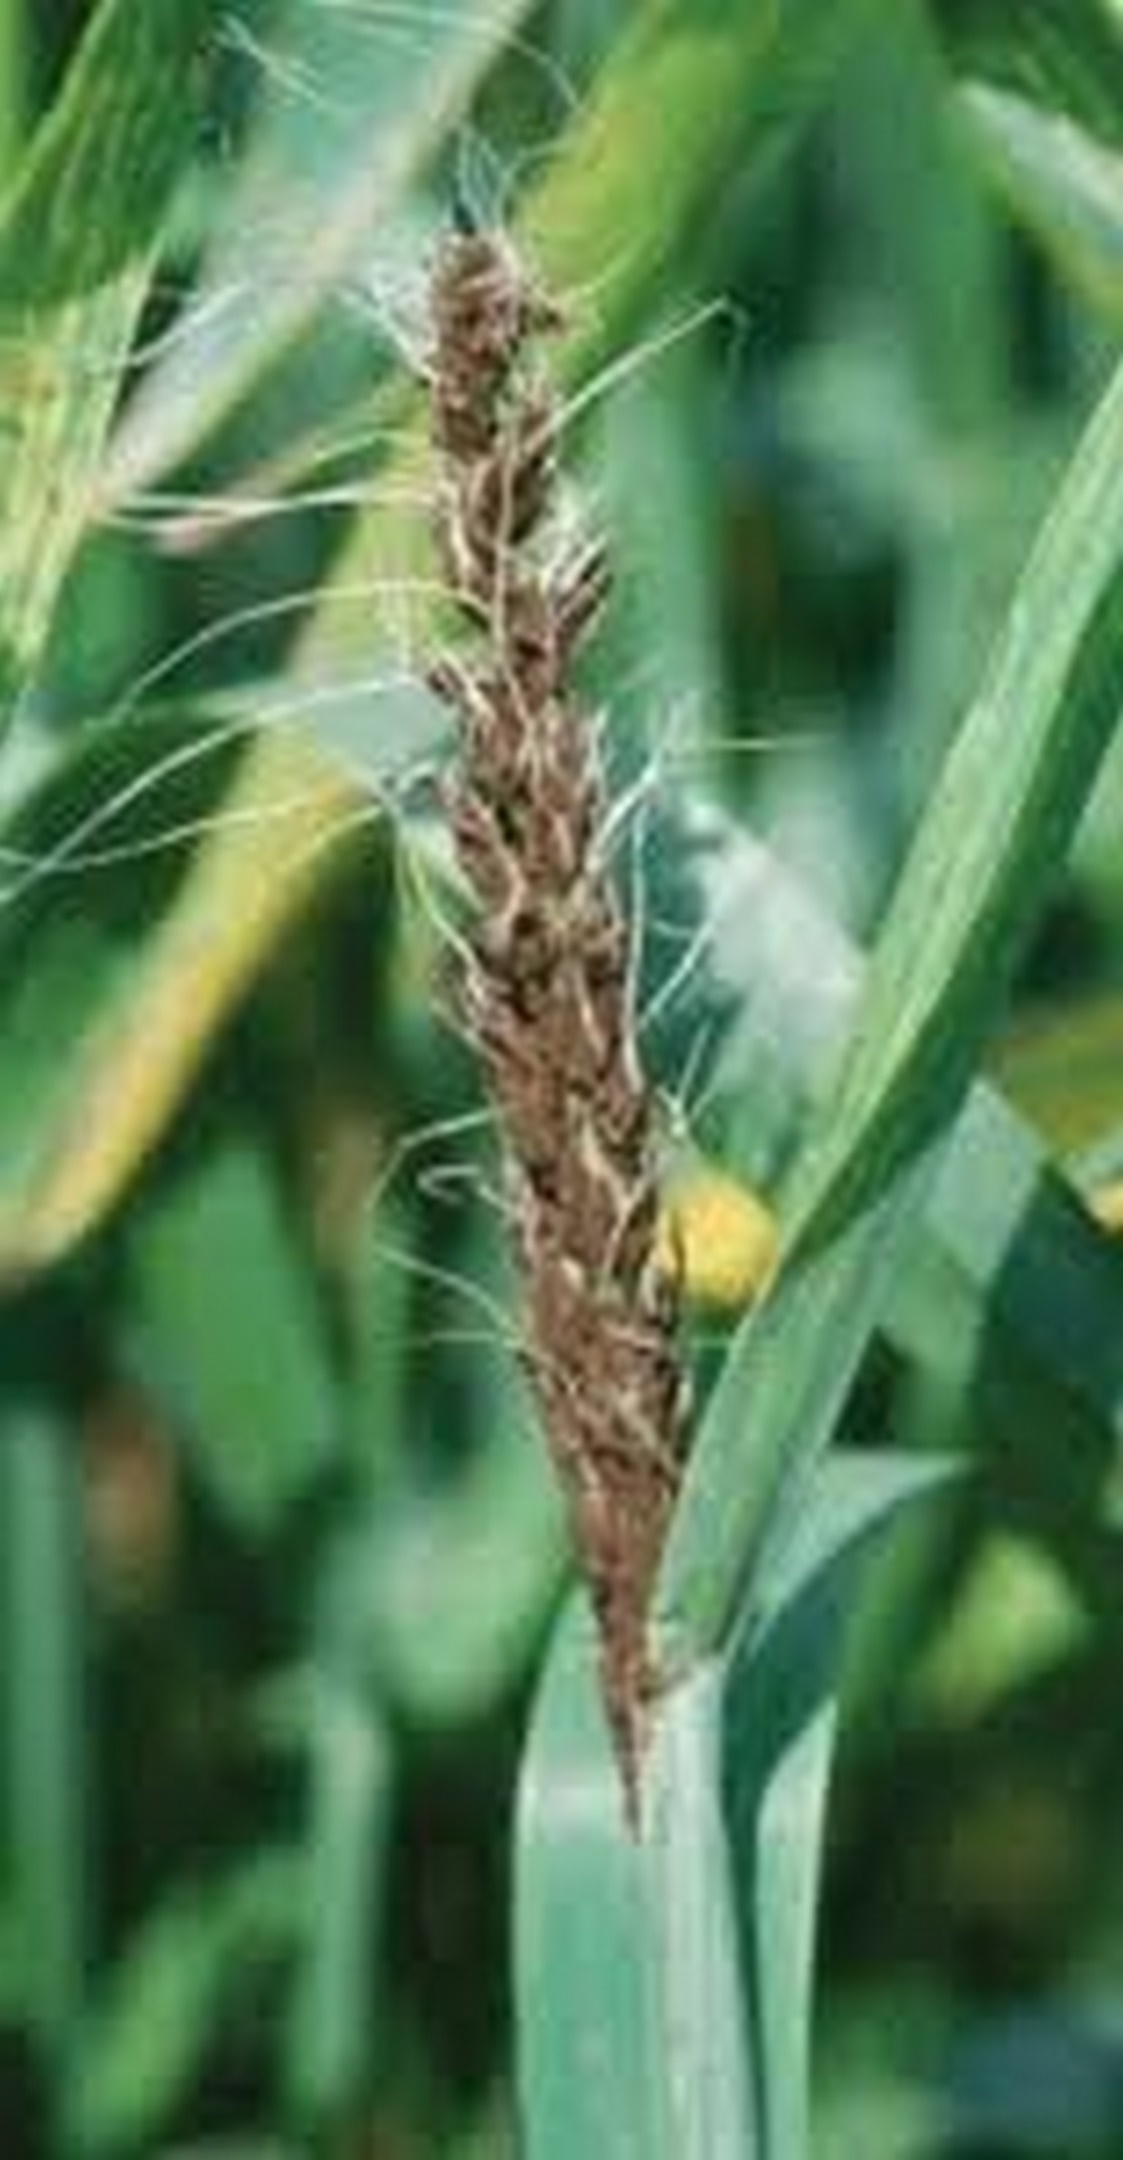Wheat Loose Smut: (354, 217, 754, 1651)
